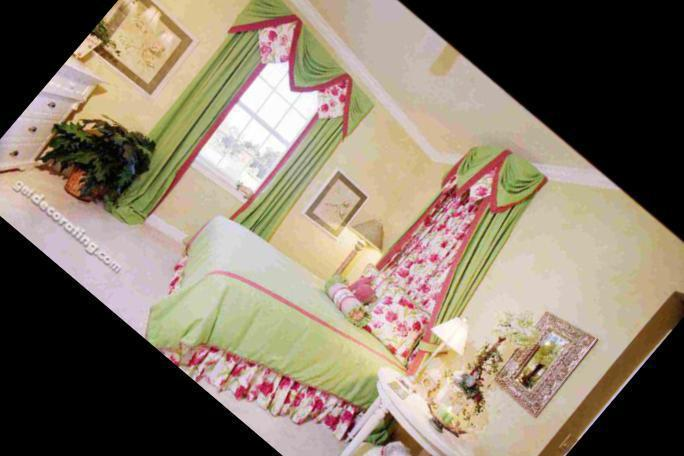Matera: (32, 100, 163, 232)
